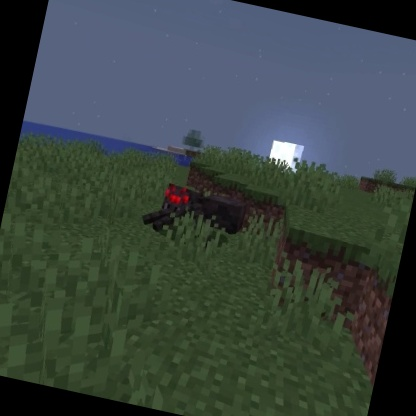spider: (136, 173, 251, 251)
